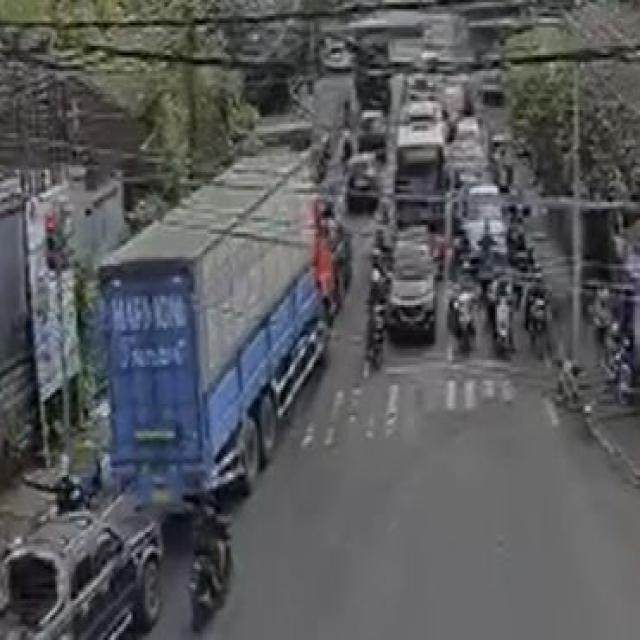bus: (398, 105, 444, 282)
car: (0, 487, 170, 640), (388, 228, 441, 349)
motorbike: (185, 485, 256, 631), (362, 284, 392, 367), (454, 282, 482, 370), (525, 272, 552, 356), (494, 280, 516, 370)
truck: (107, 151, 341, 495)
